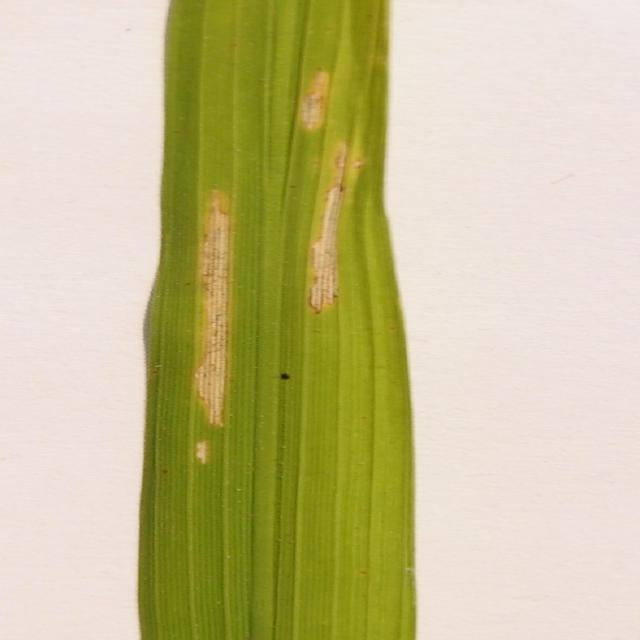Bacterial leaf blight: (180, 176, 255, 484), (305, 134, 378, 327), (296, 44, 344, 136)
